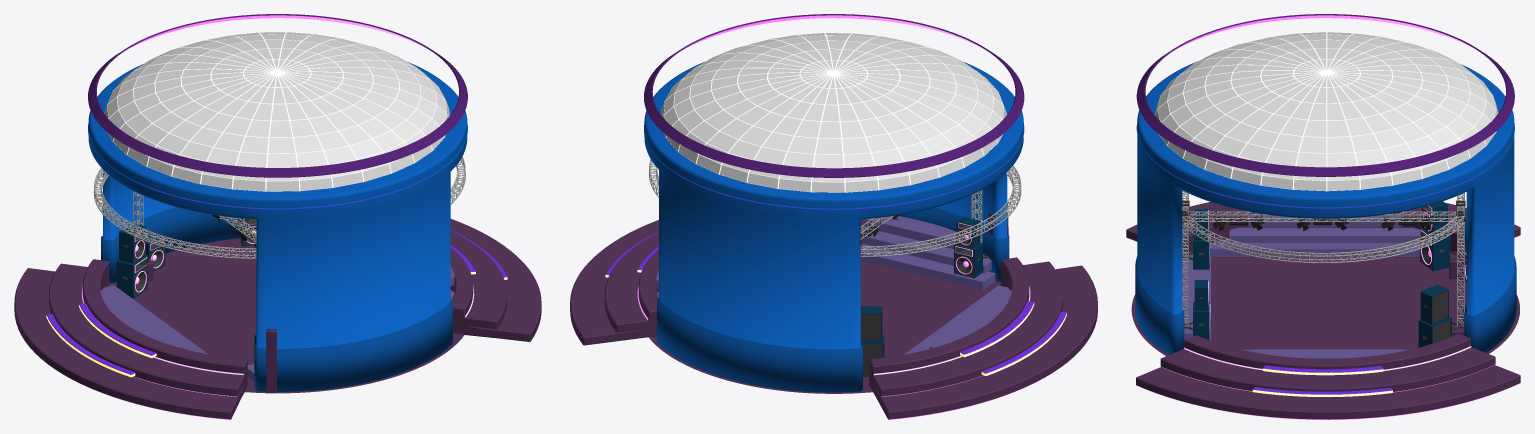
The model's file is dropscoremodel.glb.
3 views of the same model, side by side, from view 1: azimuth 30°, elevation 25°; view 2: azimuth 150°, elevation 25°; view 3: azimuth 270°, elevation 25° (orthographic).
Visible parts, largest first — view 1: Cylinder, Sphere, Cylinder.001, Cylinder.004, truss structure.002, Cylinder.002, Bleacher Step 03, speaker.003, speaker.002, Cylinder.003, Bleacher Step 02, truss structure.003 (+1 smaller); view 2: Cylinder, Sphere, Cylinder.001, Cylinder.004, Bleacher Step 07, truss structure.002, Cylinder.002, Bleacher Step 09, Bleacher Step 08, Bleacher Step 03, speaker.006, speaker.002 (+5 smaller); view 3: Cylinder.001, Sphere, Cylinder, Cylinder.004, truss structure.003, truss structure.004, Bleacher Step 02, Bleacher Step 01, Cylinder.002, Bleacher Step 06, speaker.004, Bleacher Step 03 (+11 smaller).
Boxes of the visible parts, bbox=[...] form: Cylinder: bbox=[88, 62, 467, 391]; Sphere: bbox=[104, 32, 449, 191]; Cylinder.001: bbox=[14, 219, 541, 419]; Cylinder.004: bbox=[88, 14, 467, 177]; truss structure.002: bbox=[93, 168, 256, 258]; Cylinder.002: bbox=[46, 230, 507, 377]; Bleacher Step 03: bbox=[100, 289, 182, 348]; speaker.003: bbox=[116, 255, 147, 298]; speaker.002: bbox=[119, 224, 145, 263]; Cylinder.003: bbox=[88, 123, 467, 209]; Bleacher Step 02: bbox=[101, 287, 201, 352]; truss structure.003: bbox=[133, 191, 256, 262]; Cylinder: bbox=[644, 62, 1023, 392]; Sphere: bbox=[661, 33, 1007, 192]; Cylinder.001: bbox=[570, 212, 1097, 419]; Cylinder.004: bbox=[644, 14, 1024, 177]; Bleacher Step 07: bbox=[860, 243, 995, 290]; truss structure.002: bbox=[860, 165, 1021, 256]; Cylinder.002: bbox=[605, 231, 1066, 376]; Bleacher Step 09: bbox=[860, 216, 956, 248]; Bleacher Step 08: bbox=[860, 227, 991, 273]; Bleacher Step 03: bbox=[929, 290, 1011, 348]; speaker.006: bbox=[954, 243, 982, 278]; speaker.002: bbox=[860, 306, 882, 342]; Cylinder.001: bbox=[1126, 202, 1520, 419]; Sphere: bbox=[1154, 32, 1498, 191]; Cylinder: bbox=[1135, 61, 1516, 354]; Cylinder.004: bbox=[1136, 14, 1514, 176]; truss structure.003: bbox=[1182, 191, 1465, 330]; truss structure.004: bbox=[1182, 215, 1464, 263]; Bleacher Step 02: bbox=[1229, 227, 1419, 242]; Bleacher Step 01: bbox=[1210, 239, 1419, 257]; Cylinder.002: bbox=[1252, 365, 1392, 397]; Bleacher Step 06: bbox=[1255, 349, 1402, 366]; speaker.004: bbox=[1420, 284, 1448, 324]; Bleacher Step 03: bbox=[1248, 214, 1402, 227].
Size of the model in its own units: 43.55 by 22 by 32.74.
